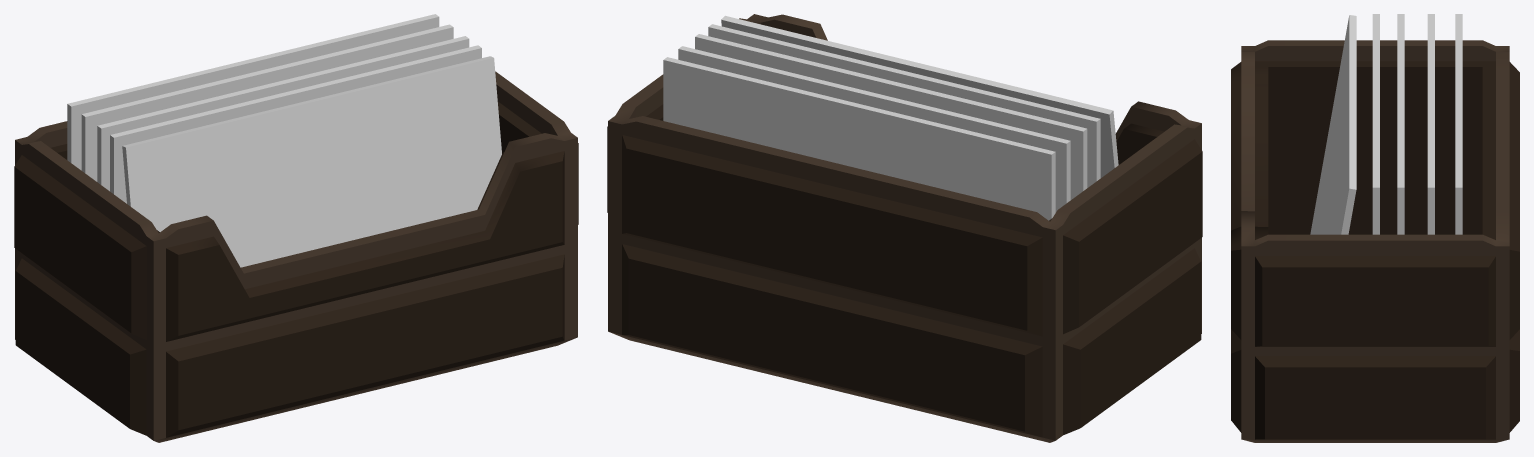
File: CardHolderFbx.fbx
3 renders of one model, left to right at view 1: azimuth 30°, elevation 25°; view 2: azimuth 150°, elevation 25°; view 3: azimuth 270°, elevation 25°, orthographic. The views are drawn at different scales.
Visible parts, largest first — view 1: card_holder, card7, card5, card4, card6, card3; view 2: card_holder, card4, card3, card5, card6, card7; view 3: card_holder, card7, card3, card4, card5, card6.
Boxes of the visible parts, x1,y1,x2,y2 form: card_holder: (14,71,578,442); card7: (122,56,501,267); card5: (81,24,453,181); card4: (67,14,439,170); card6: (110,45,481,203); card3: (97,36,469,191); card_holder: (607,14,1202,442); card4: (663,57,1055,220); card3: (695,34,1087,199); card5: (678,46,1070,212); card6: (708,24,1100,187); card7: (721,15,1118,177); card_holder: (1231,40,1519,442); card7: (1310,15,1356,234); card3: (1397,14,1404,234); card4: (1455,14,1462,234); card5: (1427,14,1434,234); card6: (1372,14,1379,234).
Bounding box in the file's own units: 9.1 × 4.99 × 5.26.
